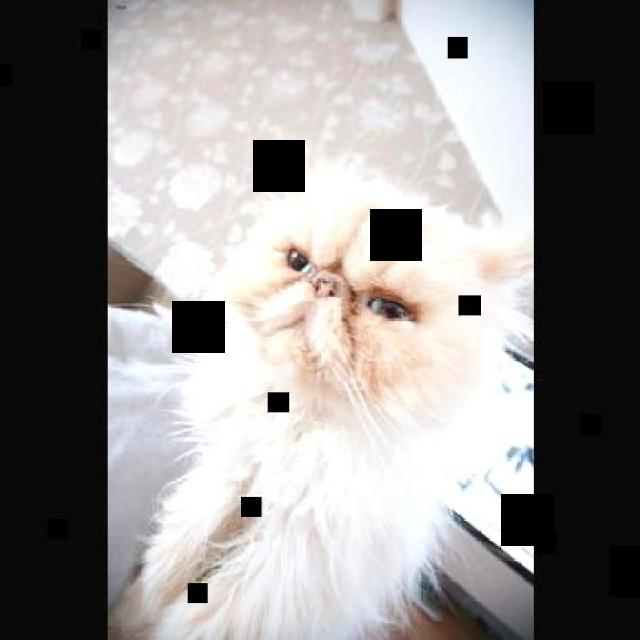unauthorized: (106, 154, 534, 638)
